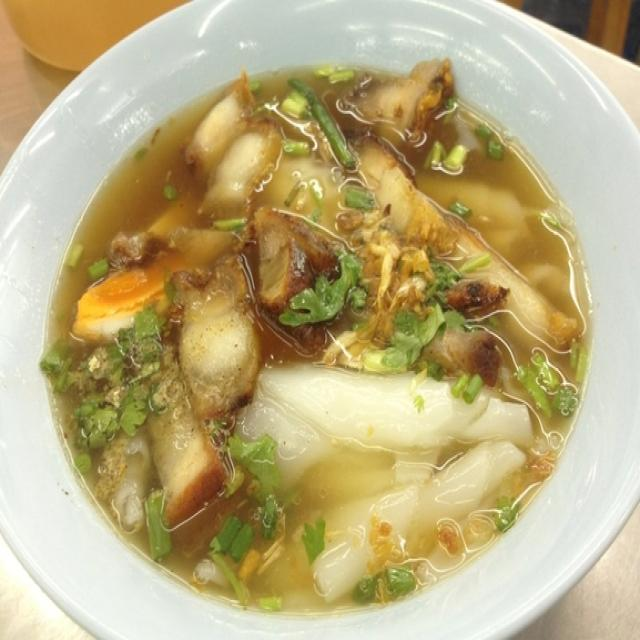面条主食: (21, 13, 633, 626)
